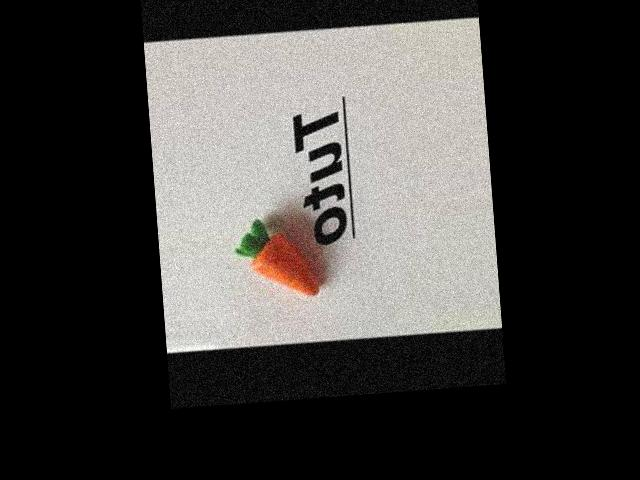carrot: (247, 222, 336, 306)
